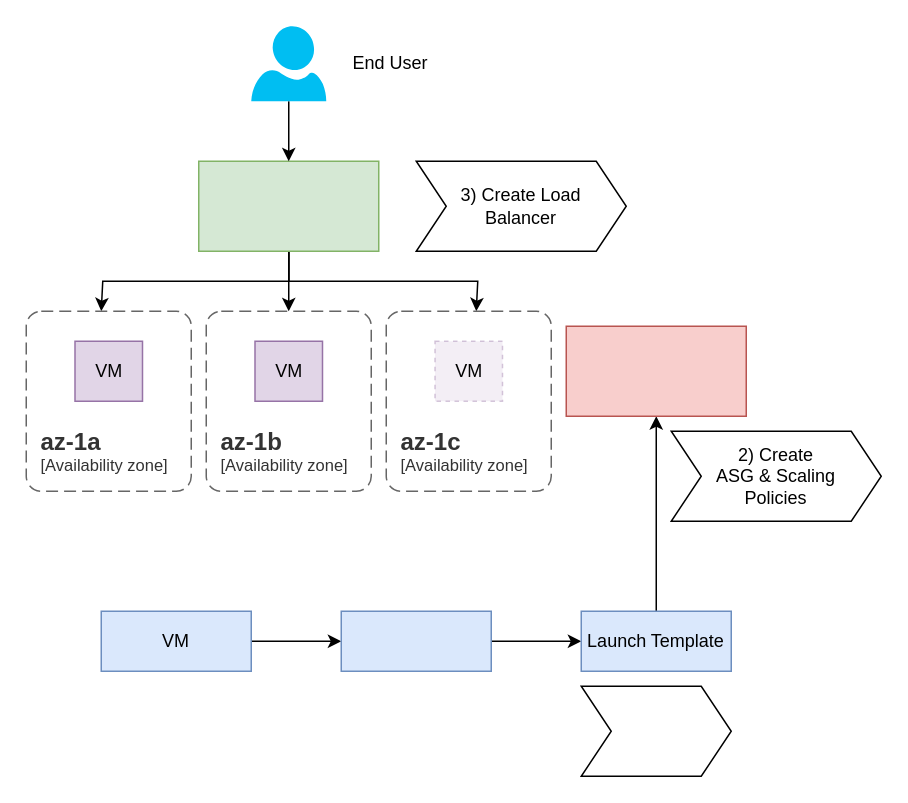
This 908x803 diagram has some shape labels left out. Each missing label, with the box of its shape:
1) Create Launch Template: (580, 685, 731, 776)
AMI: (340, 610, 491, 671)
Autoscaling Group: (565, 325, 746, 416)
Load Balancer: (197, 160, 379, 251)
